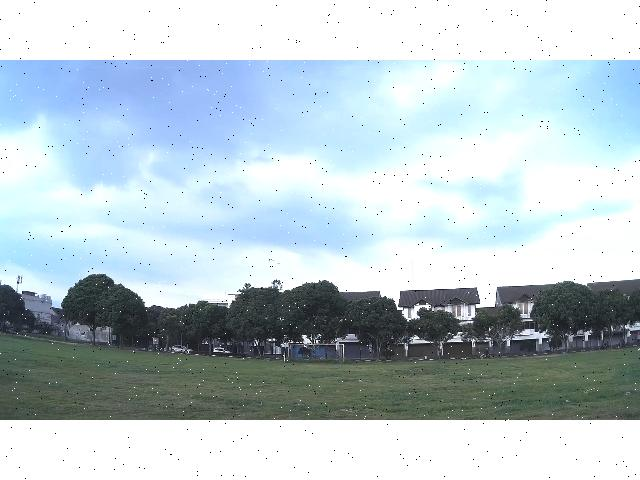Anti-Drone: (258, 250, 286, 268)
